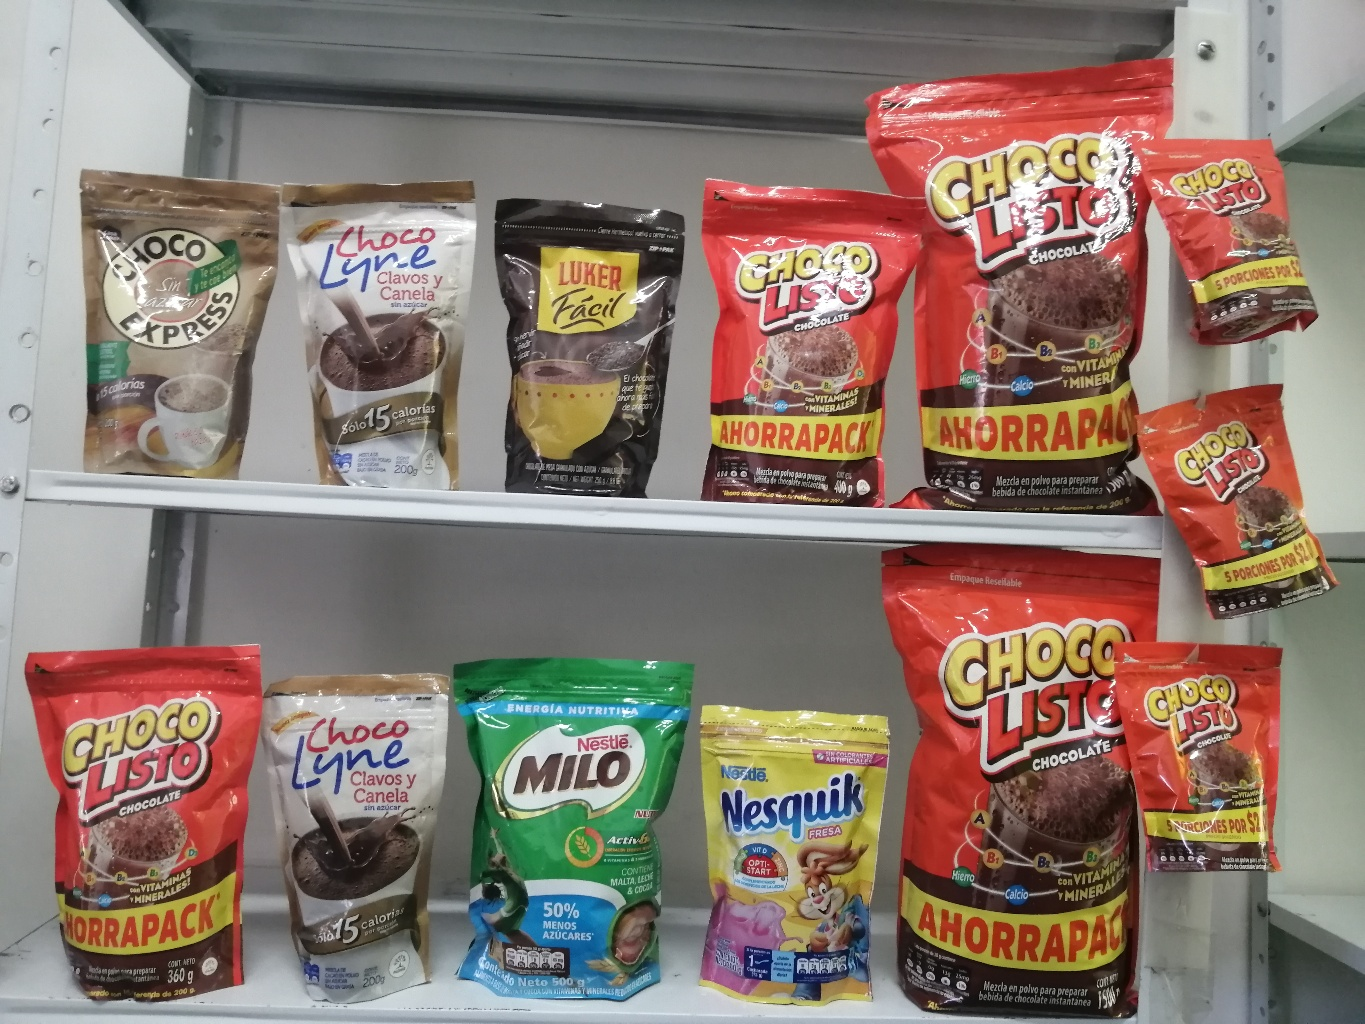COL0170103DYP1,500: (847, 37, 1210, 522)
COL0170103DYP10000: (1124, 108, 1333, 356)
COL0170103DYP36000: (1, 622, 280, 1006)
COL0170103DYP40000: (673, 161, 954, 525)
COL0170205DYP50000: (433, 632, 727, 1006)
COL0170305DYP20000: (678, 687, 906, 1019)
